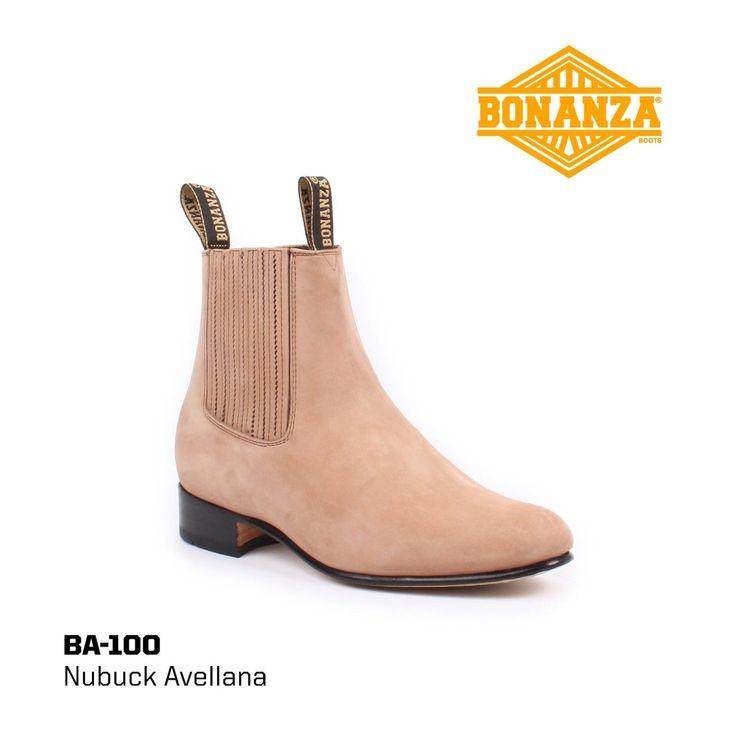gamuza: (175, 247, 574, 576)
